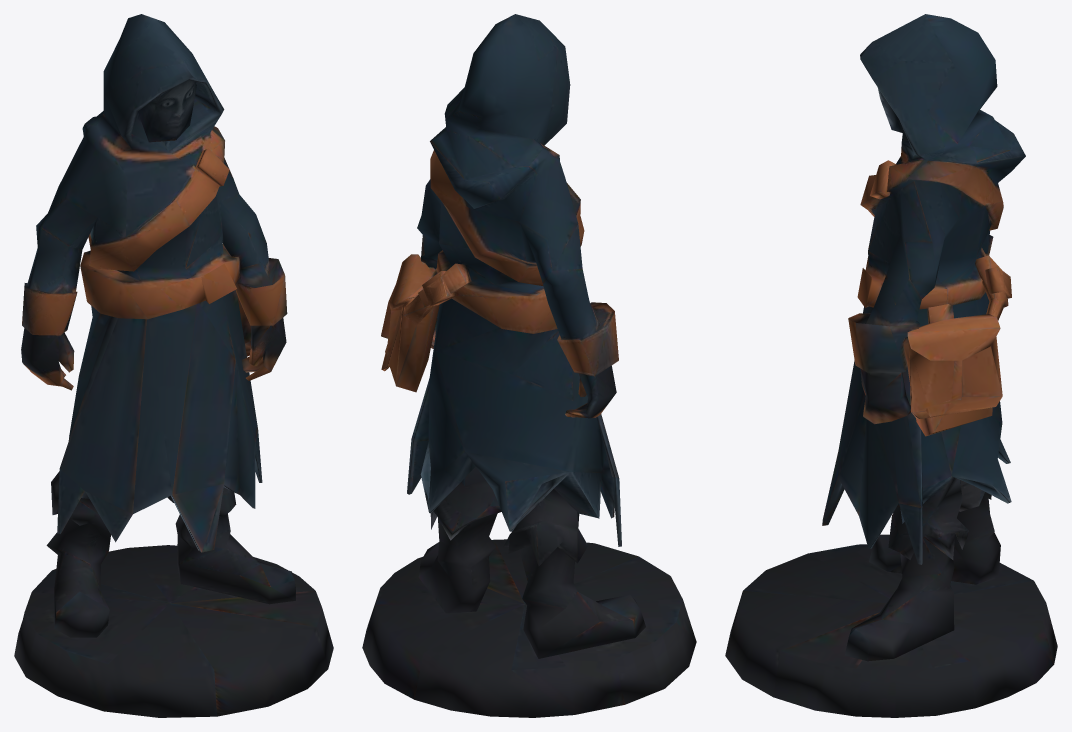
File: robber.glb
3 renders of one model, left to right at view 1: azimuth 30°, elevation 25°; view 2: azimuth 150°, elevation 25°; view 3: azimuth 270°, elevation 25°, orthographic. The views are drawn at different scales.
Bounding box in the file's own units: 0.4448 × 0.9536 × 0.4517.
1 material, 1 textured.
